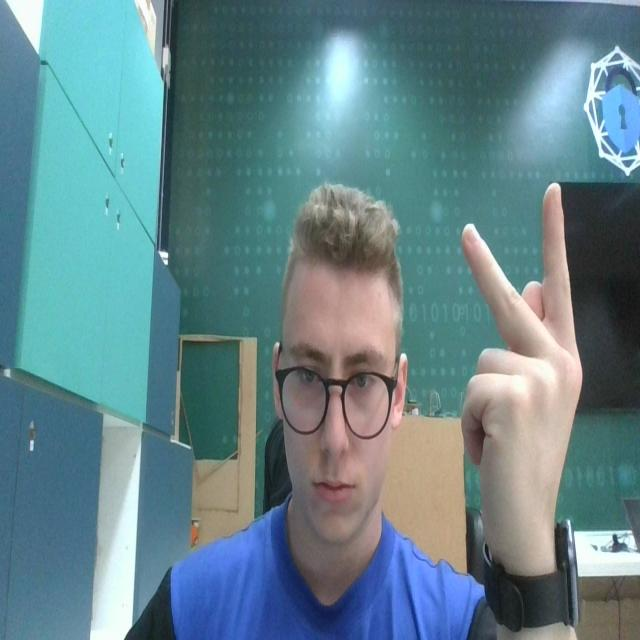K: (457, 182, 585, 566)
